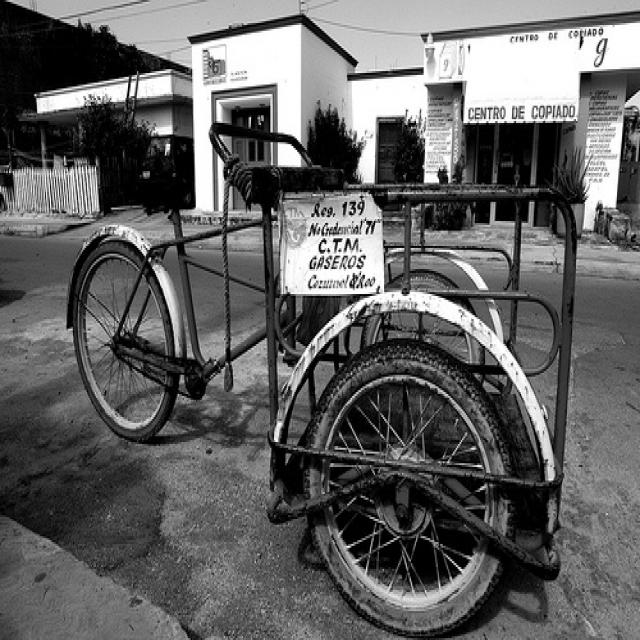bicycle: (56, 115, 571, 625)
